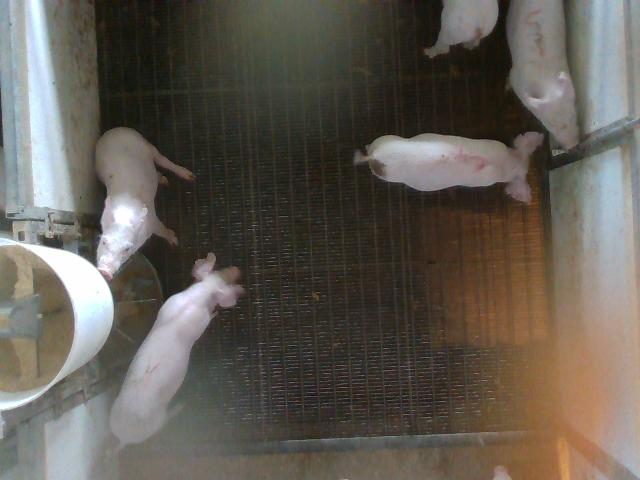pig-3: (506, 0, 580, 149)
pig-5: (355, 131, 544, 203)
